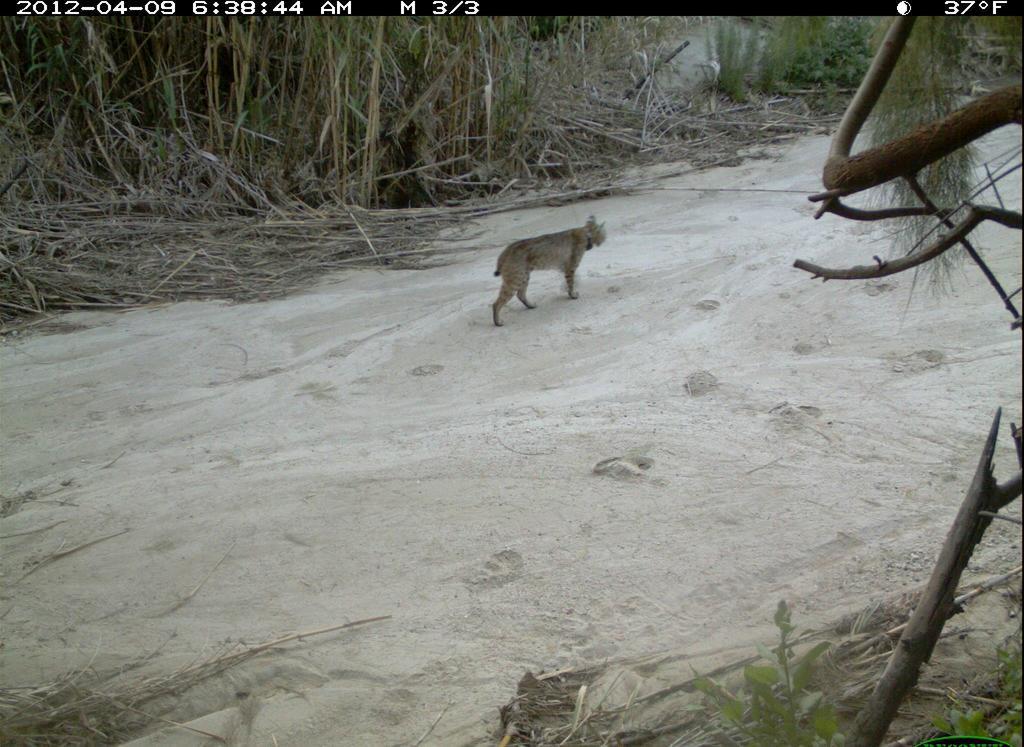bobcat: (472, 210, 612, 324)
